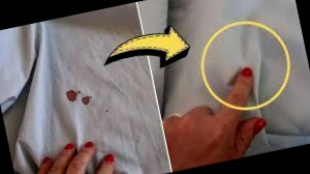blood: (65, 86, 91, 109)
